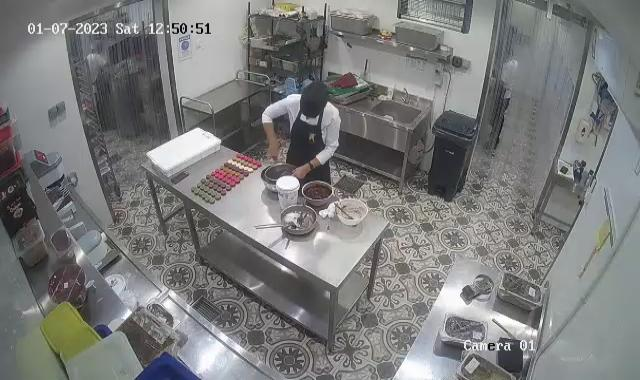no_hairnet: (300, 81, 330, 120)
